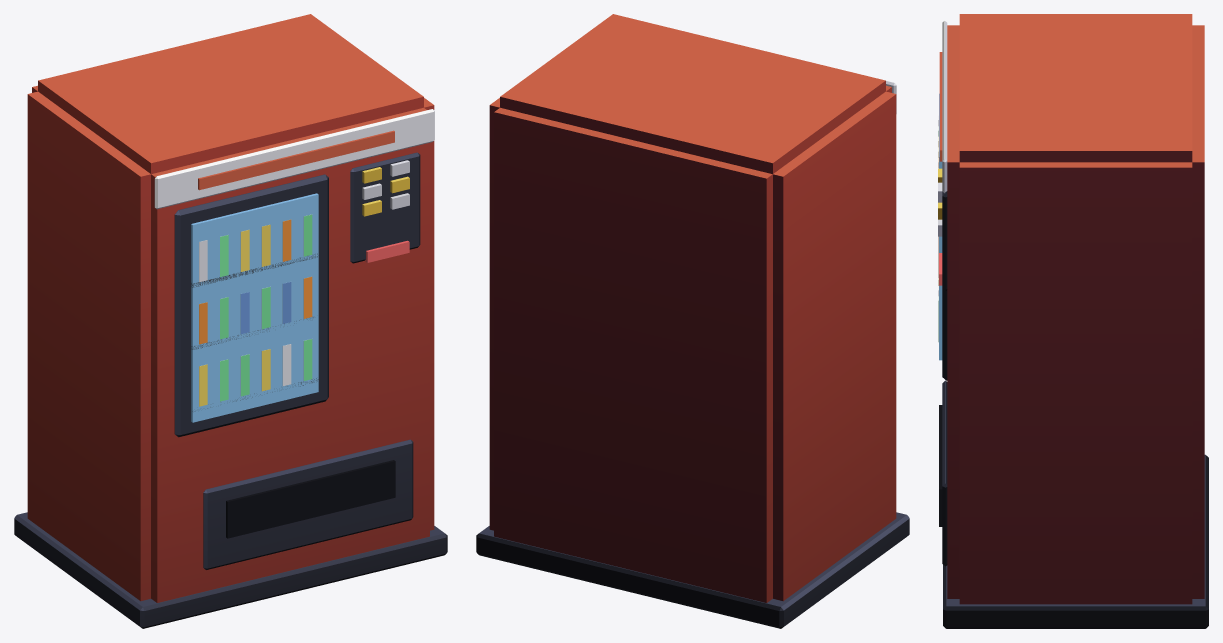
Rendered from vending_machine.glb.
3 renders of one model, left to right at view 1: azimuth 30°, elevation 25°; view 2: azimuth 150°, elevation 25°; view 3: azimuth 270°, elevation 25°, orthographic. The views are drawn at different scales.
Visible parts, largest first — view 1: vending_machine; view 2: vending_machine; view 3: vending_machine.
Part boxes in pixels (x1,y1,x2,y2): vending_machine: (14,14,447,628); vending_machine: (476,14,909,628); vending_machine: (938,14,1208,628).
Size of the model in its own units: 0.88 by 1.25 by 0.652.
Materials: 11 (11 with a texture image).
